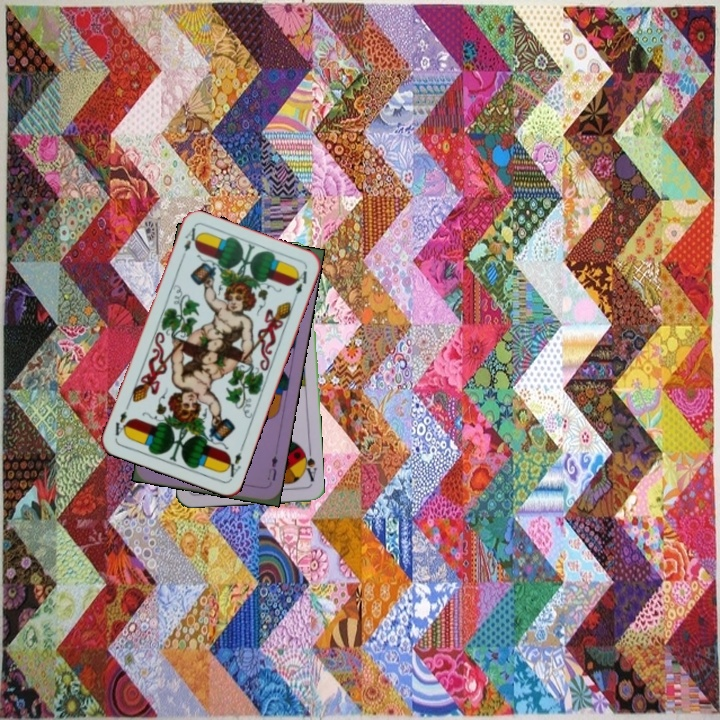EA: (220, 442, 246, 480), (177, 223, 200, 263)
EU: (263, 452, 280, 483)
SA: (298, 445, 319, 484)
